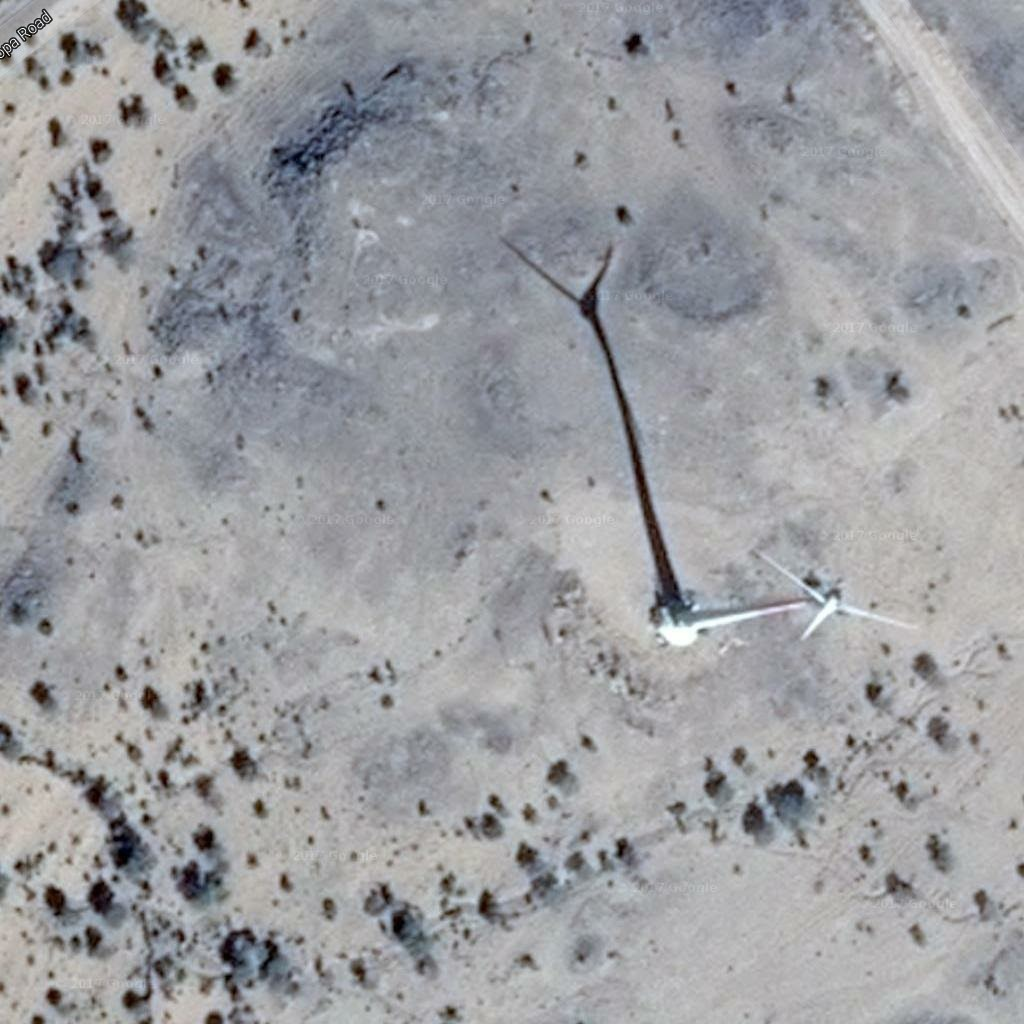Windmill: (494, 226, 714, 627)
